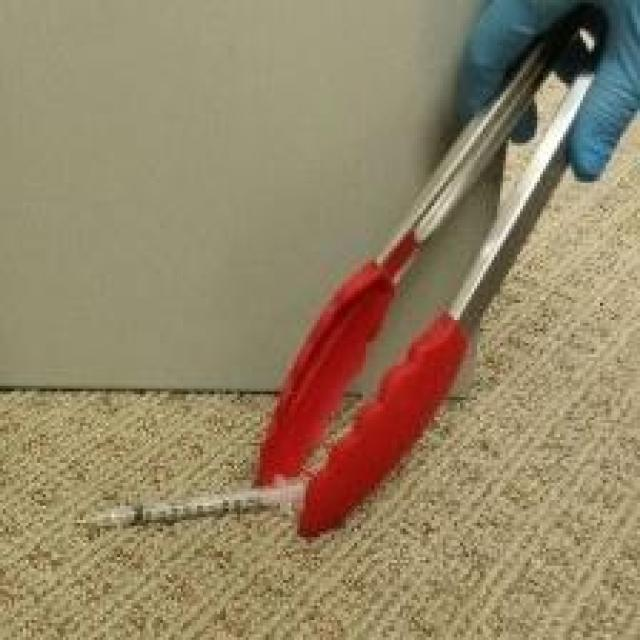syringe: (70, 485, 310, 550)
